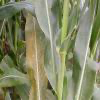Corn rust leaf: (33, 0, 69, 99), (23, 5, 48, 99)
